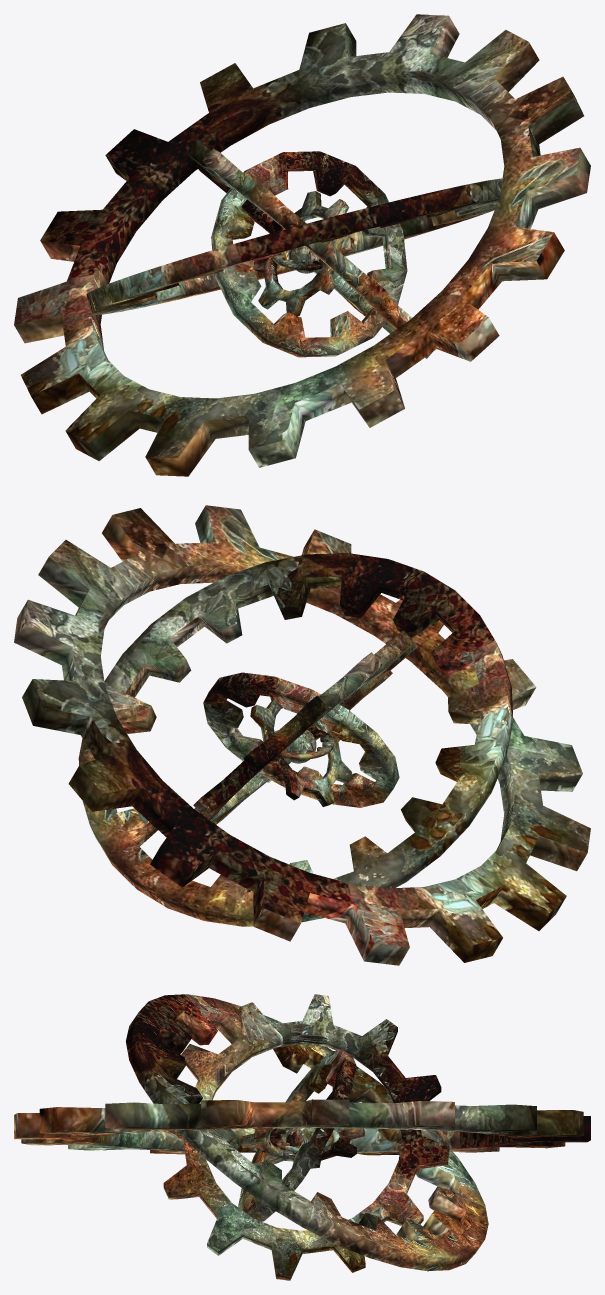
The model's file is Core1.FBX.
The picture shows the model from 3 angles, top to bottom: view 1: azimuth 30°, elevation 25°; view 2: azimuth 150°, elevation 25°; view 3: azimuth 270°, elevation 25°; orthographic projection. The views are drawn at different scales.
Visible parts, largest first — view 1: Gear_Sphere_0; view 2: Gear_Sphere_0; view 3: Gear_Sphere_0.
Boxes of the visible parts, bbox=[...] form: Gear_Sphere_0: bbox=[14, 14, 590, 476]; Gear_Sphere_0: bbox=[14, 505, 590, 965]; Gear_Sphere_0: bbox=[14, 994, 590, 1280].
Size of the model in its own units: 9.44 by 5.34 by 10.47.
1 material, 1 textured.
